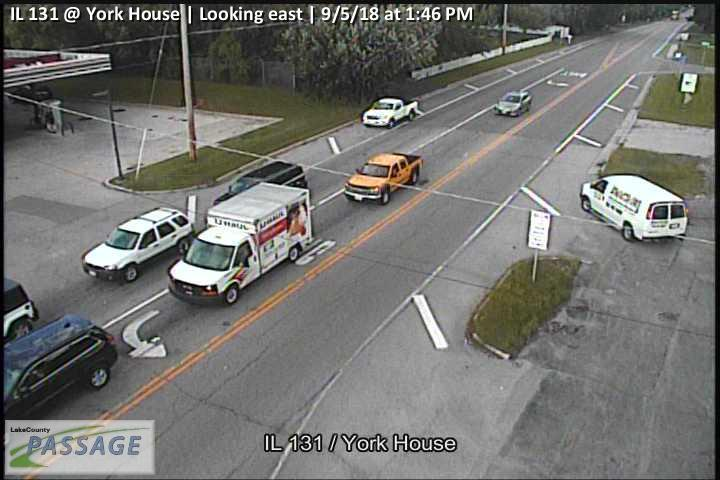SUV: (1, 313, 119, 426), (81, 206, 196, 280)
Sedan: (492, 90, 534, 117)
Truck: (167, 182, 313, 307), (579, 171, 689, 240), (212, 161, 311, 218), (342, 150, 423, 204), (360, 95, 419, 130)
